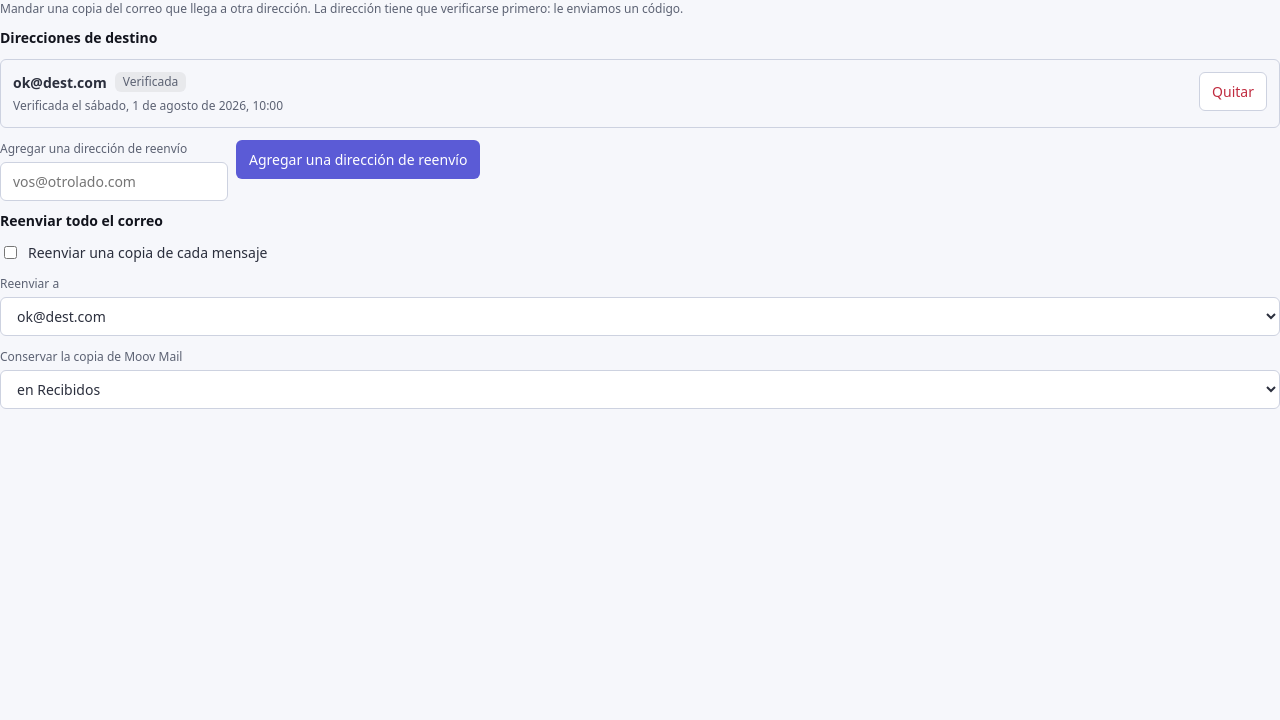
Test: removal warns before it is attempted › names the consequence for rules that forward there
Click the button "Quitar" at {"x": 1233, "y": 91}, box [1199,72,1267,111]
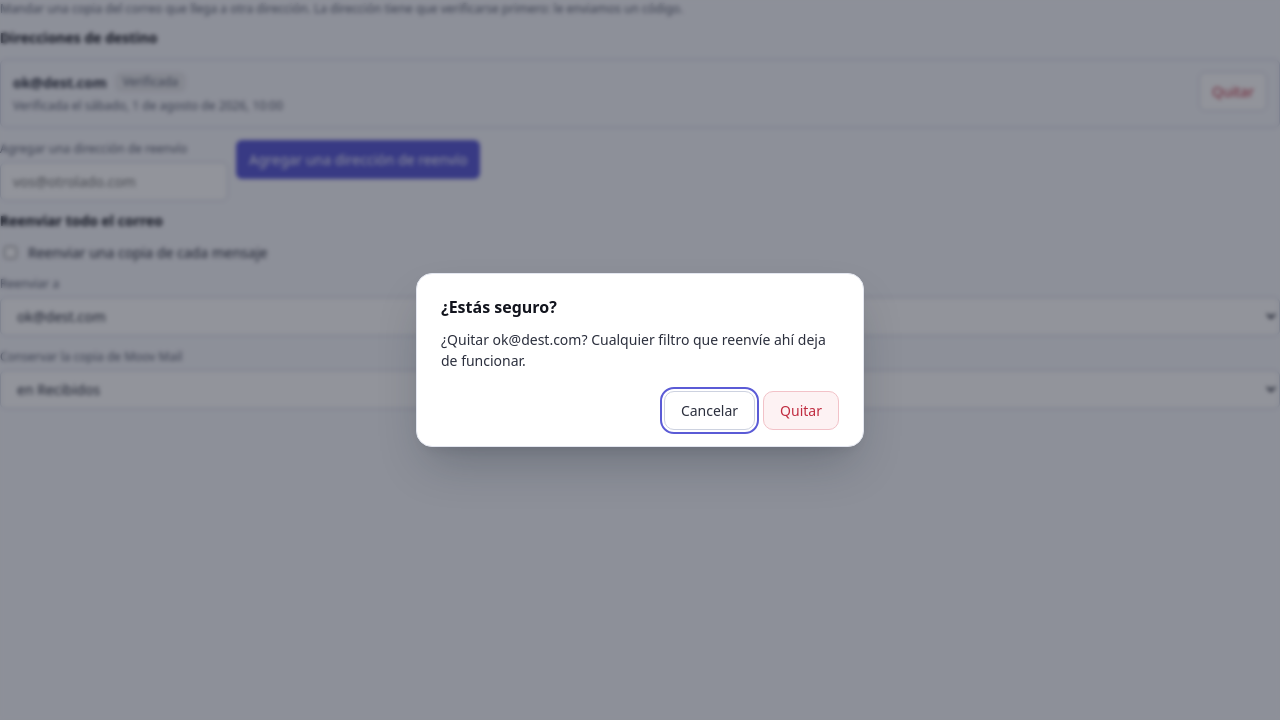
Expected: the text "Cualquier filtro que reenvíe ahí deja de funcionar" is shown, [441,330,826,370]
